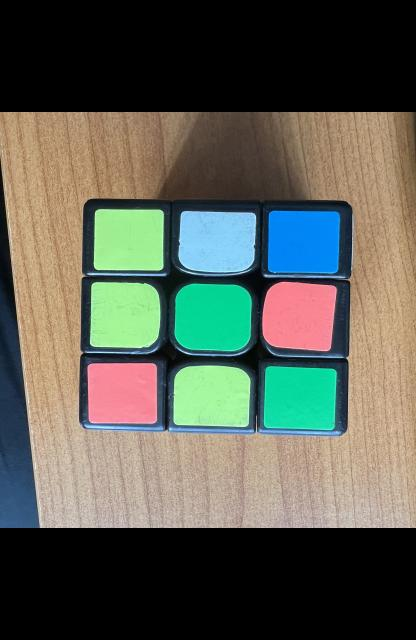Blue: (267, 211, 339, 273)
Green: (173, 283, 250, 351), (263, 367, 336, 430)
Orange: (262, 282, 336, 351), (87, 363, 157, 424)
White: (177, 211, 256, 272)
Yellow: (173, 366, 249, 427), (89, 282, 159, 348), (93, 210, 163, 270)
